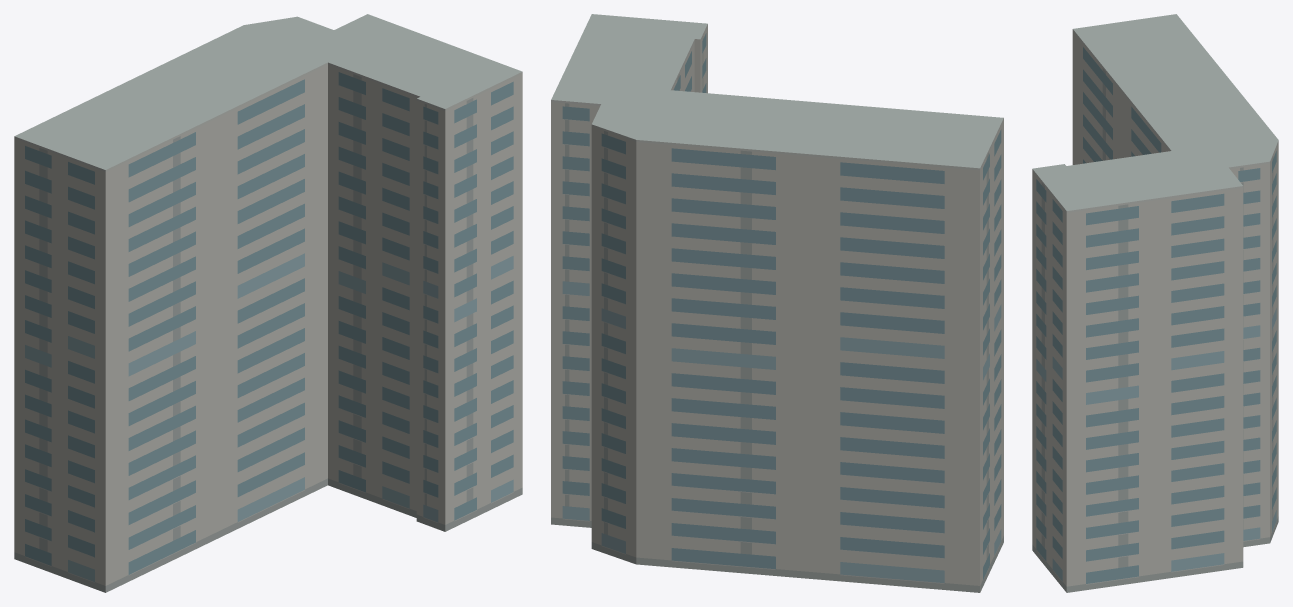
File: residential-a172e432-0cd8-4be5-960b-bcdc642d2f7c.glb
3 renders of one model, left to right at view 1: azimuth 30°, elevation 25°; view 2: azimuth 150°, elevation 25°; view 3: azimuth 270°, elevation 25°, orthographic. The views are drawn at different scales.
Visible parts, largest first — view 1: residential-a172e432-0cd8-4be5-960b-bcdc642d2f7c.tmp; view 2: residential-a172e432-0cd8-4be5-960b-bcdc642d2f7c.tmp; view 3: residential-a172e432-0cd8-4be5-960b-bcdc642d2f7c.tmp.
Part boxes in pixels (left/top/right/bottom): residential-a172e432-0cd8-4be5-960b-bcdc642d2f7c.tmp: left=14, top=14, right=522, bottom=592; residential-a172e432-0cd8-4be5-960b-bcdc642d2f7c.tmp: left=551, top=14, right=1003, bottom=592; residential-a172e432-0cd8-4be5-960b-bcdc642d2f7c.tmp: left=1032, top=14, right=1278, bottom=592.
Size of the model in its own units: 53.18 by 48 by 28.09.
